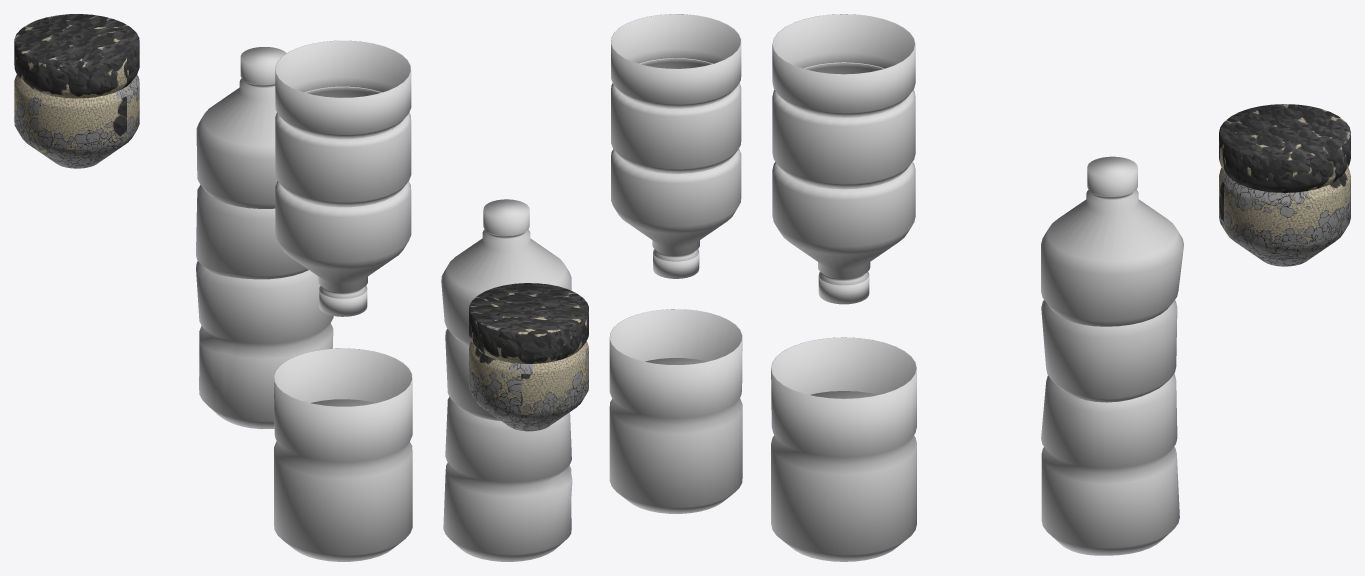
Rendered from pet.fbx.
3 renders of one model, left to right at view 1: azimuth 30°, elevation 25°; view 2: azimuth 150°, elevation 25°; view 3: azimuth 270°, elevation 25°, orthographic. The views are drawn at different scales.
Visible parts, largest first — view 1: pet_upper, pet, pet_lower, inside, cap, pet_upper_cap; view 2: pet_upper, pet, pet_lower, inside, cap, pet_upper_cap; view 3: pet, pet_upper, pet_lower, inside, cap, pet_upper_cap.
Boxes of the visible parts, bbox=[...] form: pet_upper: bbox=[275, 40, 411, 298]; pet: bbox=[196, 78, 333, 429]; pet_lower: bbox=[274, 348, 412, 561]; inside: bbox=[14, 14, 139, 168]; cap: bbox=[240, 47, 286, 84]; pet_upper_cap: bbox=[319, 290, 367, 316]; pet_upper: bbox=[611, 14, 741, 261]; pet: bbox=[441, 229, 572, 561]; pet_lower: bbox=[609, 309, 742, 513]; inside: bbox=[469, 283, 588, 431]; cap: bbox=[483, 199, 529, 235]; pet_upper_cap: bbox=[653, 252, 699, 278]; pet: bbox=[1041, 189, 1183, 555]; pet_upper: bbox=[772, 14, 915, 285]; pet_lower: bbox=[771, 337, 916, 561]; inside: bbox=[1219, 104, 1350, 266]; cap: bbox=[1087, 156, 1137, 196]; pet_upper_cap: bbox=[818, 275, 869, 304].
Size of the model in its own units: 371 by 760 by 810.
